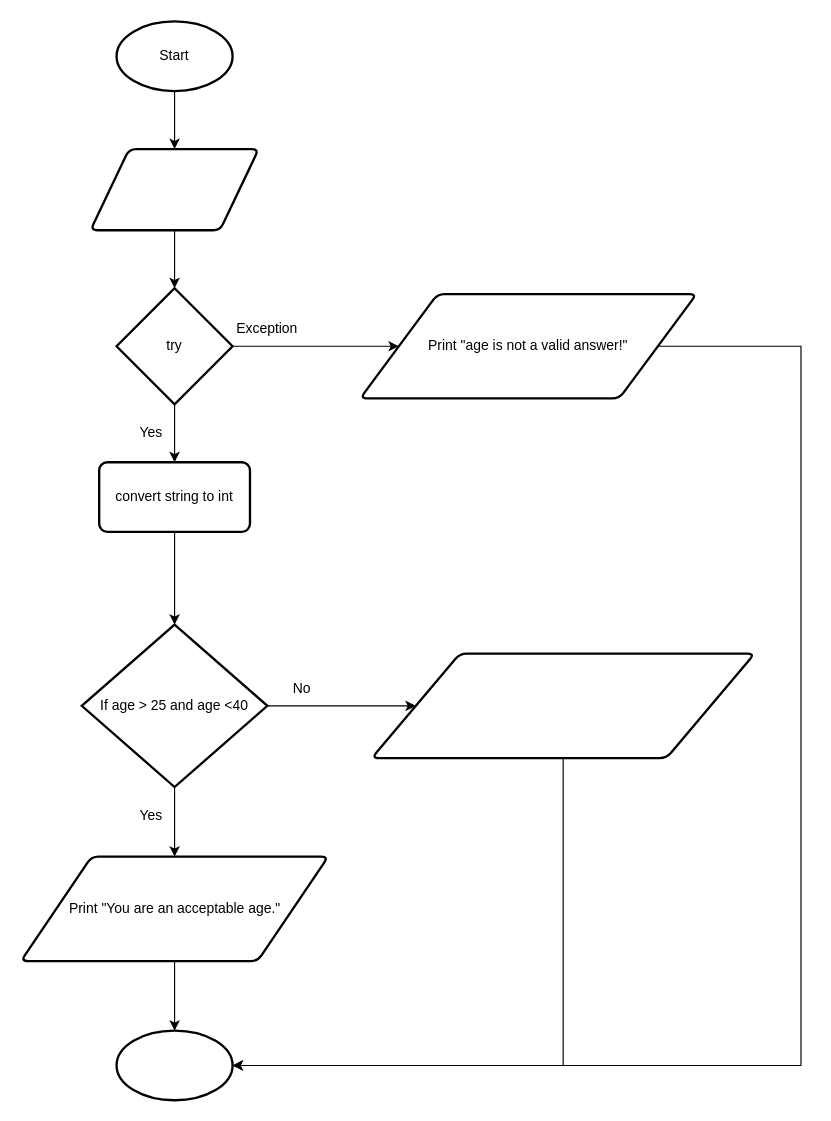
This 831x1121 diagram has some shape labels left out. Here are the shapes that lost their labels. From the top down, the box of each, then its label:
(89, 147, 259, 231): Get age
(370, 652, 755, 759): Print "You are NOT an acceptable age!"
(115, 1029, 233, 1101): Stop
